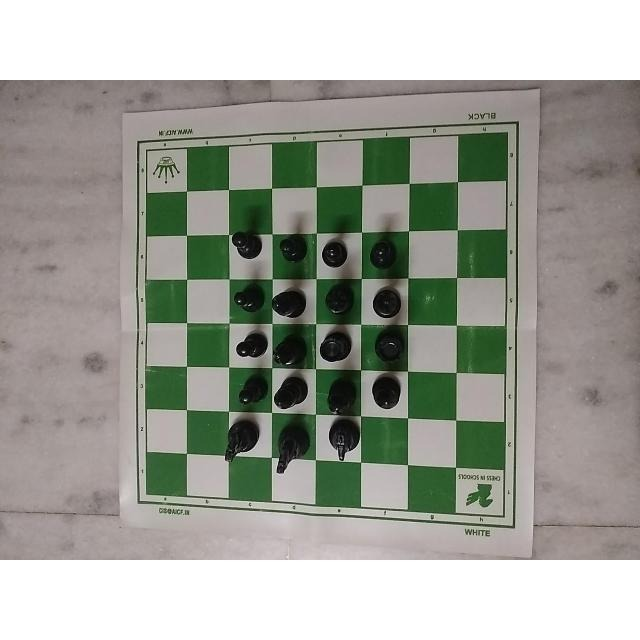black-bishop: (271, 375, 319, 419), (370, 276, 406, 324), (318, 373, 357, 417), (315, 282, 357, 322), (267, 289, 309, 324), (368, 376, 403, 416), (269, 335, 307, 366)
black-knight: (271, 423, 312, 481), (218, 421, 263, 469), (323, 422, 364, 466)
black-pawn: (226, 229, 270, 271), (232, 372, 270, 412), (229, 328, 271, 364), (316, 235, 352, 276), (229, 282, 269, 317), (277, 233, 313, 267), (366, 238, 398, 274)
black-rook: (316, 327, 362, 369), (372, 327, 412, 369)
